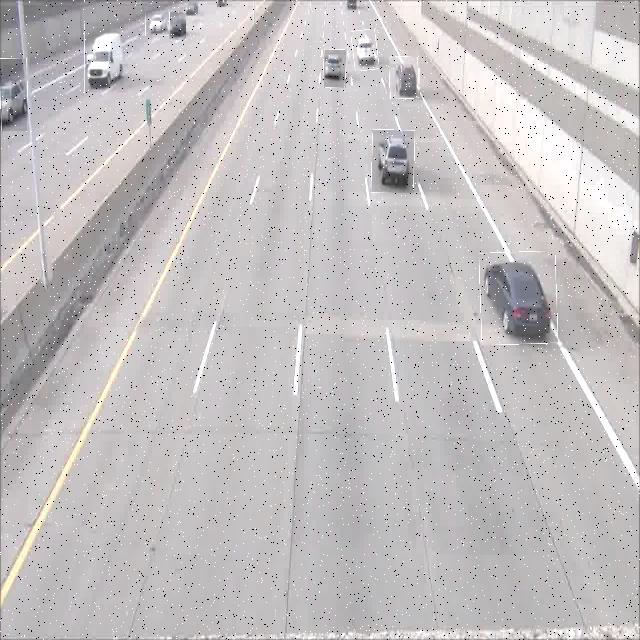Car: (480, 252, 557, 344), (84, 23, 125, 93), (372, 130, 414, 193), (0, 58, 27, 131), (390, 57, 420, 99), (352, 30, 378, 70), (324, 50, 346, 88), (145, 12, 168, 38), (169, 12, 186, 40)
